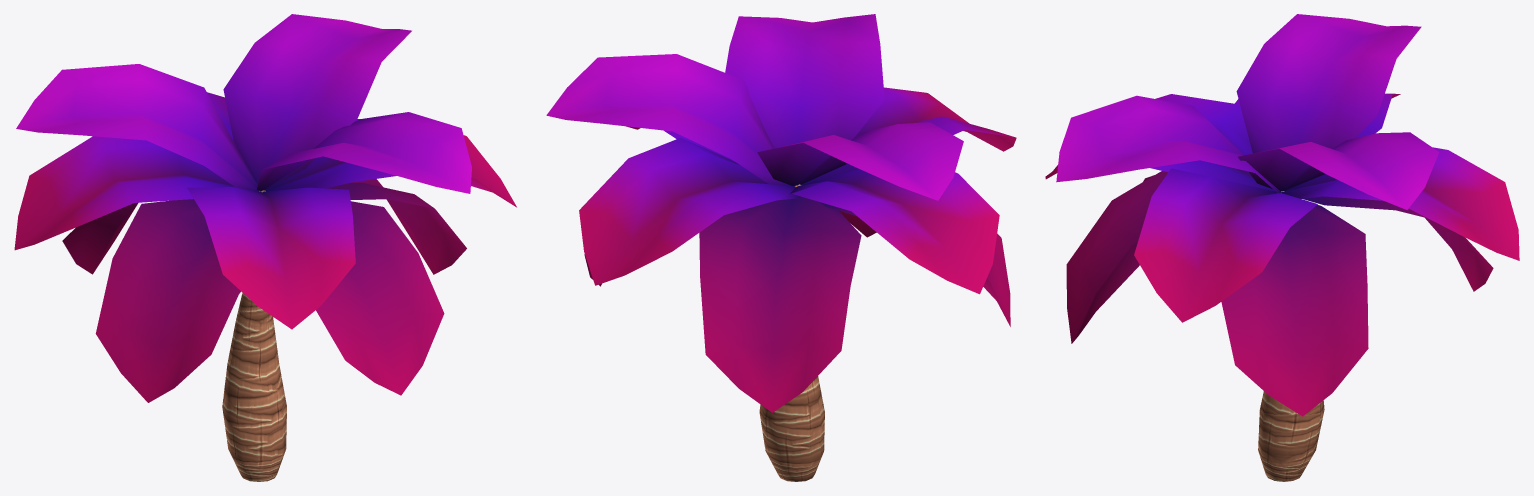
File: Tree_Palmier_04.fbx
The picture shows the model from 3 angles, left to right: view 1: azimuth 30°, elevation 25°; view 2: azimuth 150°, elevation 25°; view 3: azimuth 270°, elevation 25°; orthographic projection.
Parts seen in each view (by area): view 1: Palmier_04; view 2: Palmier_04; view 3: Palmier_04.
Boxes of the visible parts, x1=… form: Palmier_04: x1=14, y1=14, x2=516, y2=481; Palmier_04: x1=546, y1=14, x2=1016, y2=481; Palmier_04: x1=1045, y1=14, x2=1519, y2=481.
Bounding box in the file's own units: 444 × 389 × 434.
